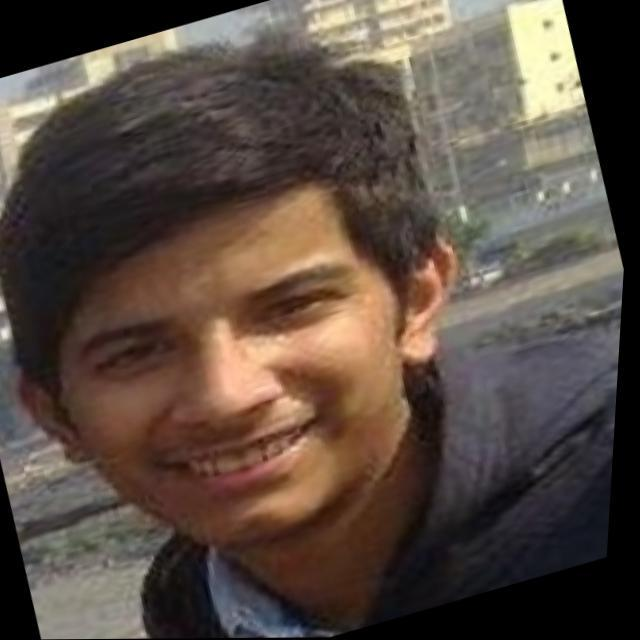Nonhelmet: (5, 43, 472, 549)
